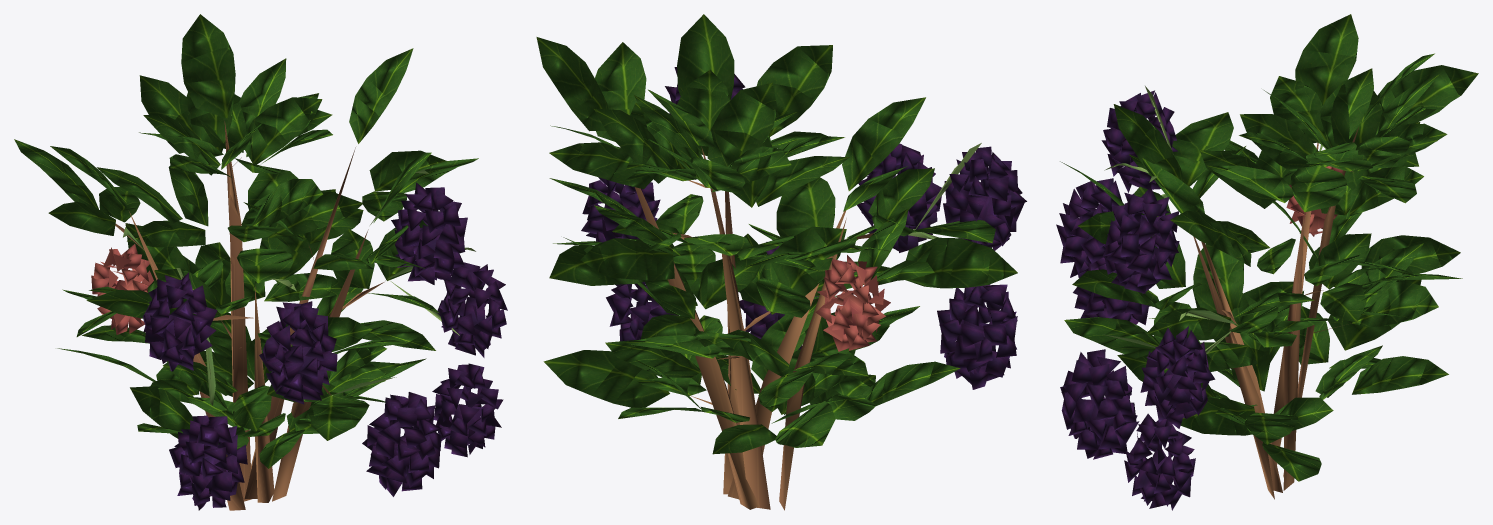
The model's file is NP_Blackberry_Ready_LOD1.fbx.
3 views of the same model, side by side, from view 1: azimuth 30°, elevation 25°; view 2: azimuth 150°, elevation 25°; view 3: azimuth 270°, elevation 25° (orthographic). The views are drawn at different scales.
Visible parts, largest first — view 1: NP_Blackberry_Ready; view 2: NP_Blackberry_Ready; view 3: NP_Blackberry_Ready.
Part boxes in pixels (x1,y1,x2,y2): NP_Blackberry_Ready: (14,14,507,510); NP_Blackberry_Ready: (536,14,1026,510); NP_Blackberry_Ready: (1056,14,1478,510).
Size of the model in its own units: 80.66 by 80.49 by 69.52.
